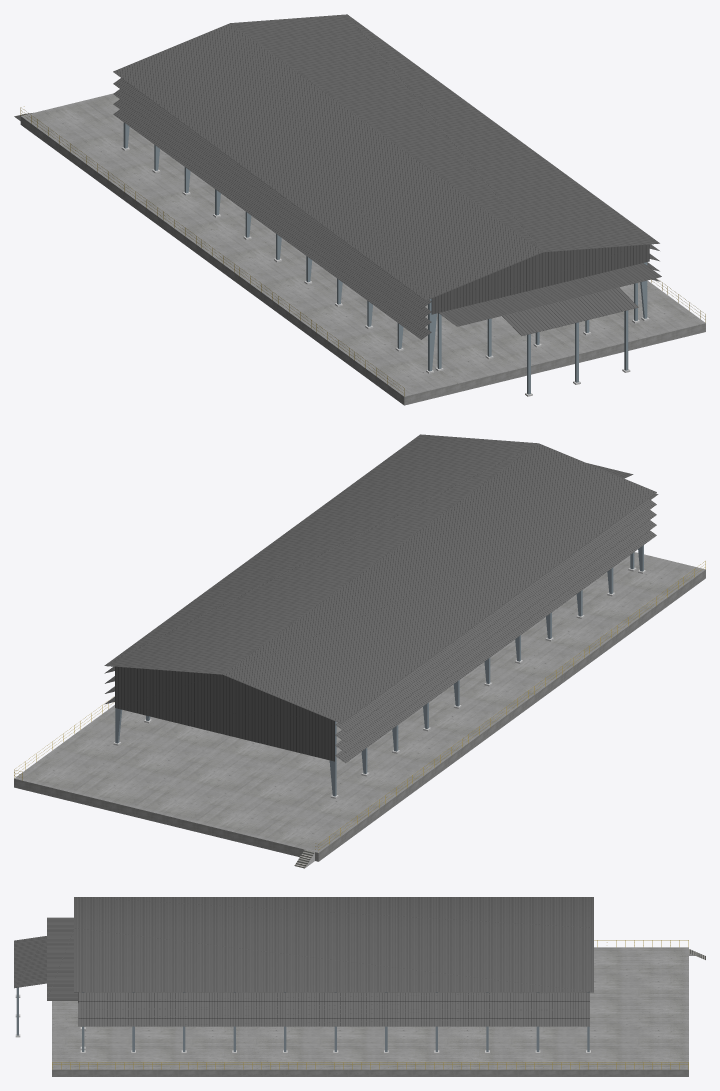
File: Dummy Building 5.FBX
3 views of the same model, one above another, from view 1: azimuth 30°, elevation 25°; view 2: azimuth 150°, elevation 25°; view 3: azimuth 270°, elevation 25° (orthographic). The views are drawn at different scales.
Visible parts, largest first — view 1: Refinery48; view 2: Refinery48; view 3: Refinery48.
Part boxes in pixels (x1=…): Refinery48: x1=14, y1=14, x2=705, y2=405; Refinery48: x1=14, y1=434, x2=705, y2=868; Refinery48: x1=14, y1=897, x2=705, y2=1076.
Size of the model in its own units: 3583 by 1208 by 8571.
